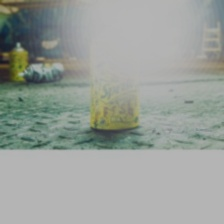aerosol_cans: (87, 14, 141, 134)
